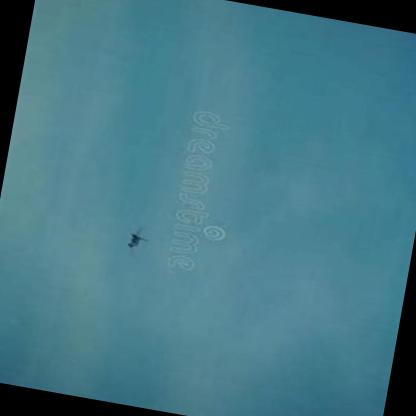plane: (112, 218, 159, 265)
